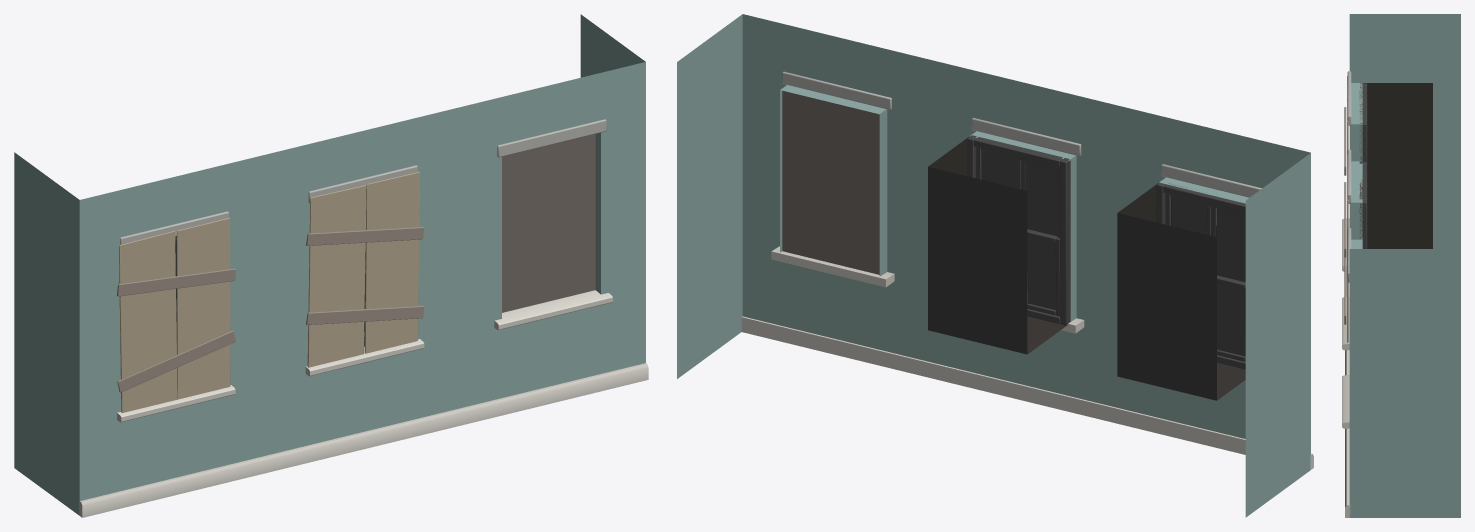
Rendered from upper_6d.glb.
3 renders of one model, left to right at view 1: azimuth 30°, elevation 25°; view 2: azimuth 150°, elevation 25°; view 3: azimuth 270°, elevation 25°, orthographic. The views are drawn at different scales.
Parts seen in each view (by area): view 1: upper_6d; view 2: upper_6d; view 3: upper_6d.
Part boxes in pixels (x1,y1,x2,y2): upper_6d: (14, 14, 648, 517); upper_6d: (677, 14, 1313, 517); upper_6d: (1342, 14, 1460, 517).
Size of the model in its own units: 6 by 3.2 by 1.28.
